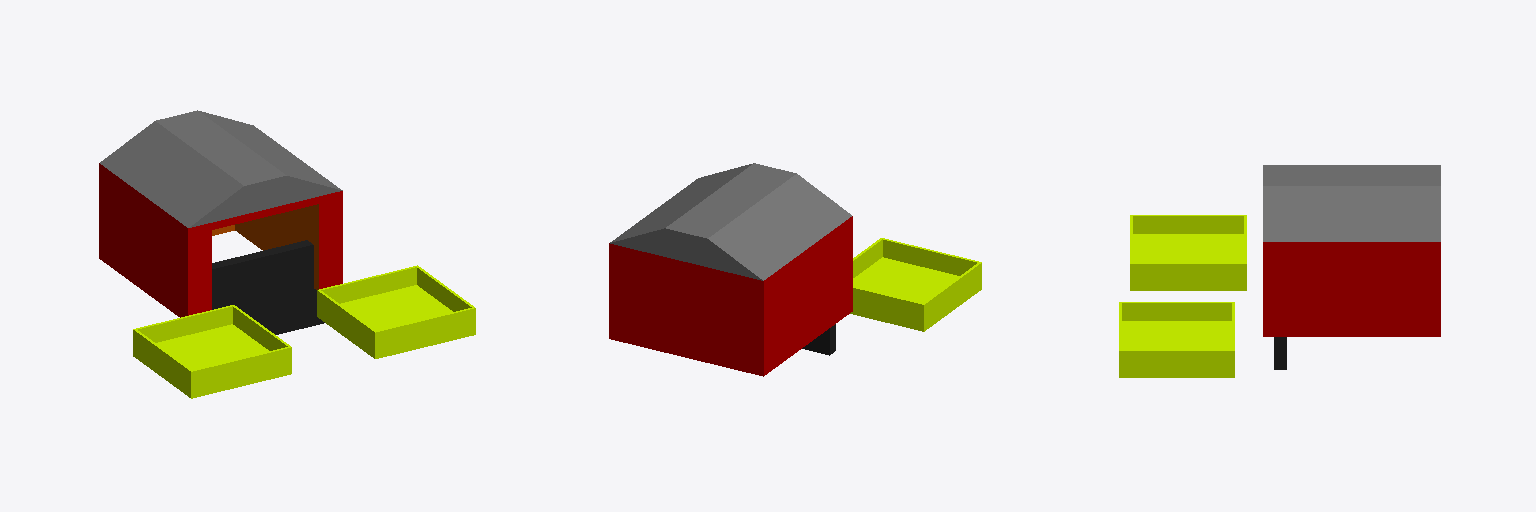
Rendered from farm.obj.
3 views of the same model, side by side, from view 1: azimuth 30°, elevation 25°; view 2: azimuth 150°, elevation 25°; view 3: azimuth 270°, elevation 25° (orthographic).
Parts seen in each view (by area): view 1: Cube, Cube.002, Cube.003, Cube.001; view 2: Cube, Cube.002, Cube.001; view 3: Cube, Cube.002, Cube.003.
Part boxes in pixels (bbox=[...]): Cube: bbox=[99, 110, 342, 317]; Cube.002: bbox=[133, 305, 291, 398]; Cube.003: bbox=[317, 265, 475, 358]; Cube.001: bbox=[212, 240, 324, 334]; Cube: bbox=[609, 163, 852, 376]; Cube.002: bbox=[850, 238, 981, 331]; Cube.001: bbox=[802, 324, 835, 355]; Cube: bbox=[1263, 165, 1440, 336]; Cube.002: bbox=[1130, 215, 1246, 290]; Cube.003: bbox=[1119, 302, 1234, 377].
Size of the model in its own units: 8.54 by 4.75 by 8.54.